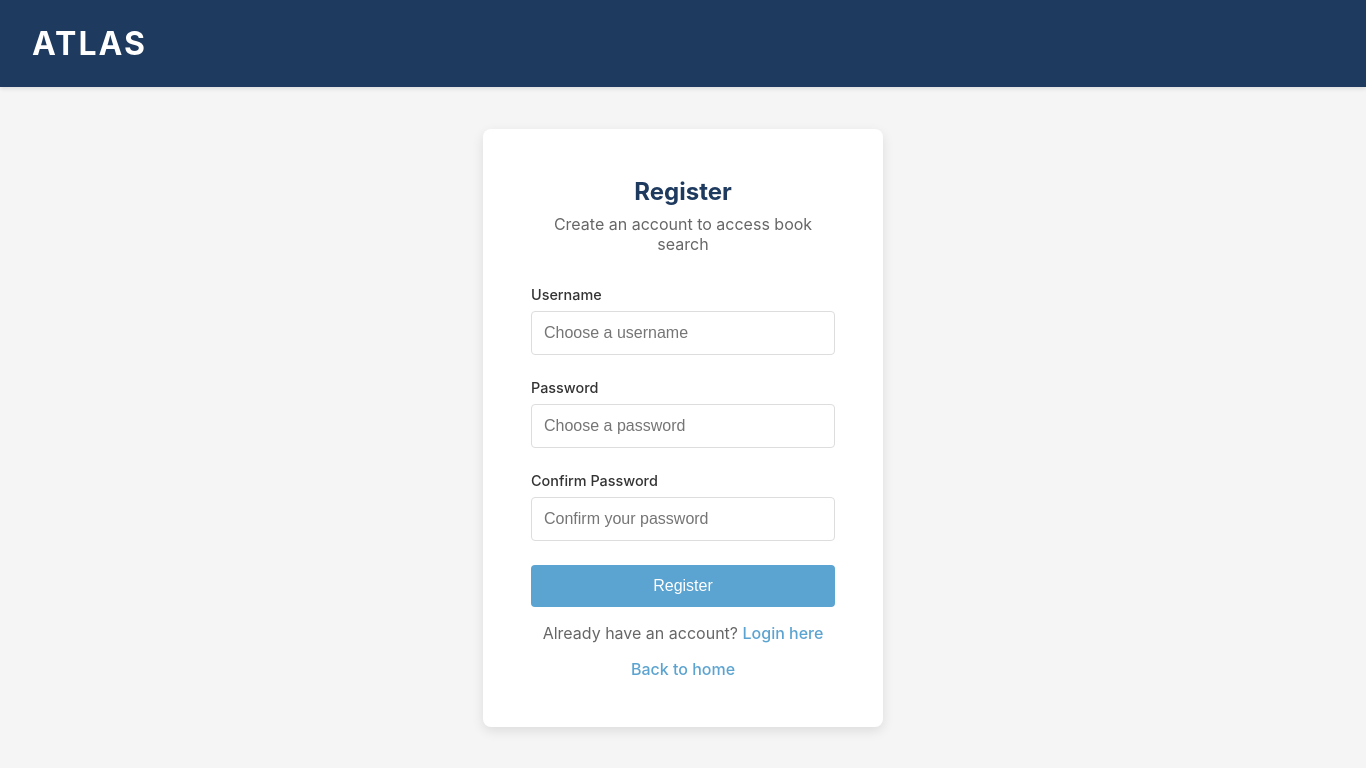
Test: RegisterPage › Form Validation › should show error for short username
Type "ab" into the field labelled "Username" at (683, 332), box [531, 310, 835, 354]
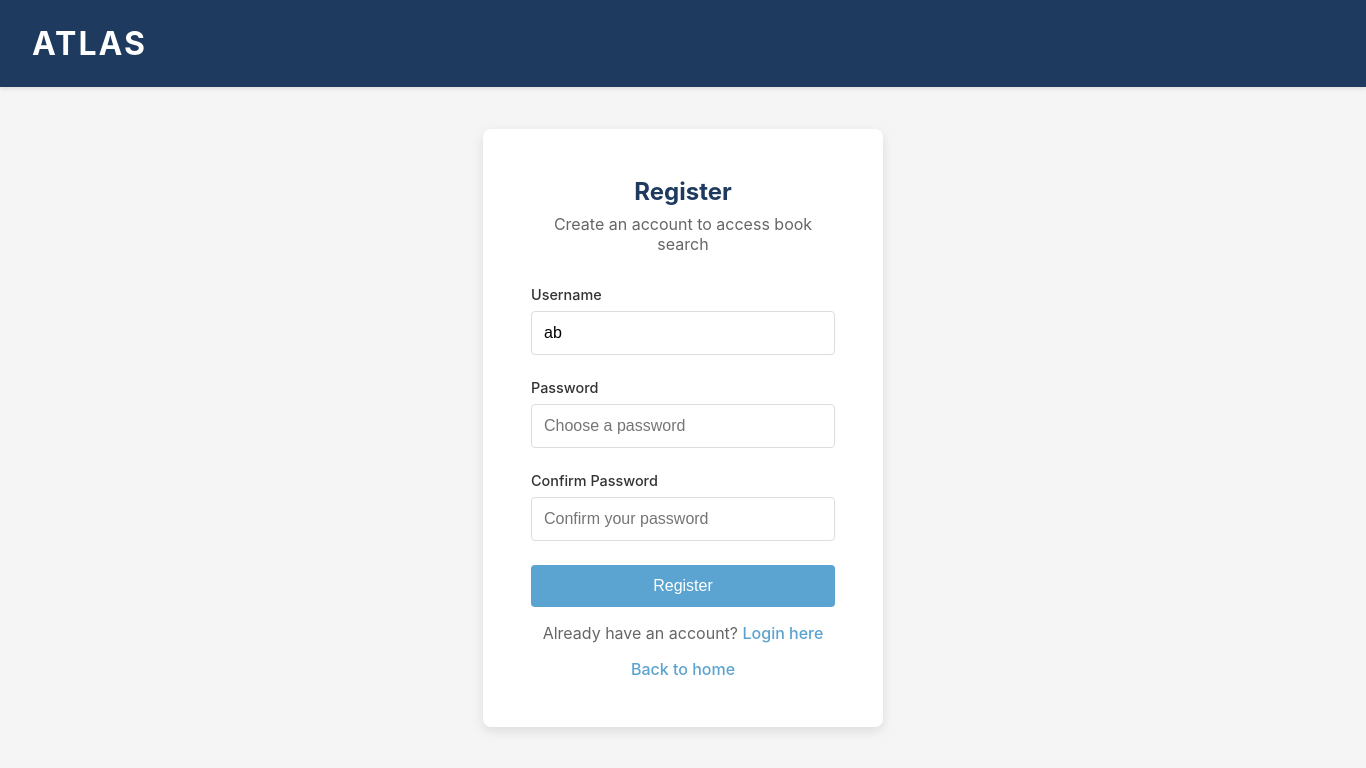
Type "password123" into the password field labelled "Password" at (683, 426), box [531, 404, 835, 448]
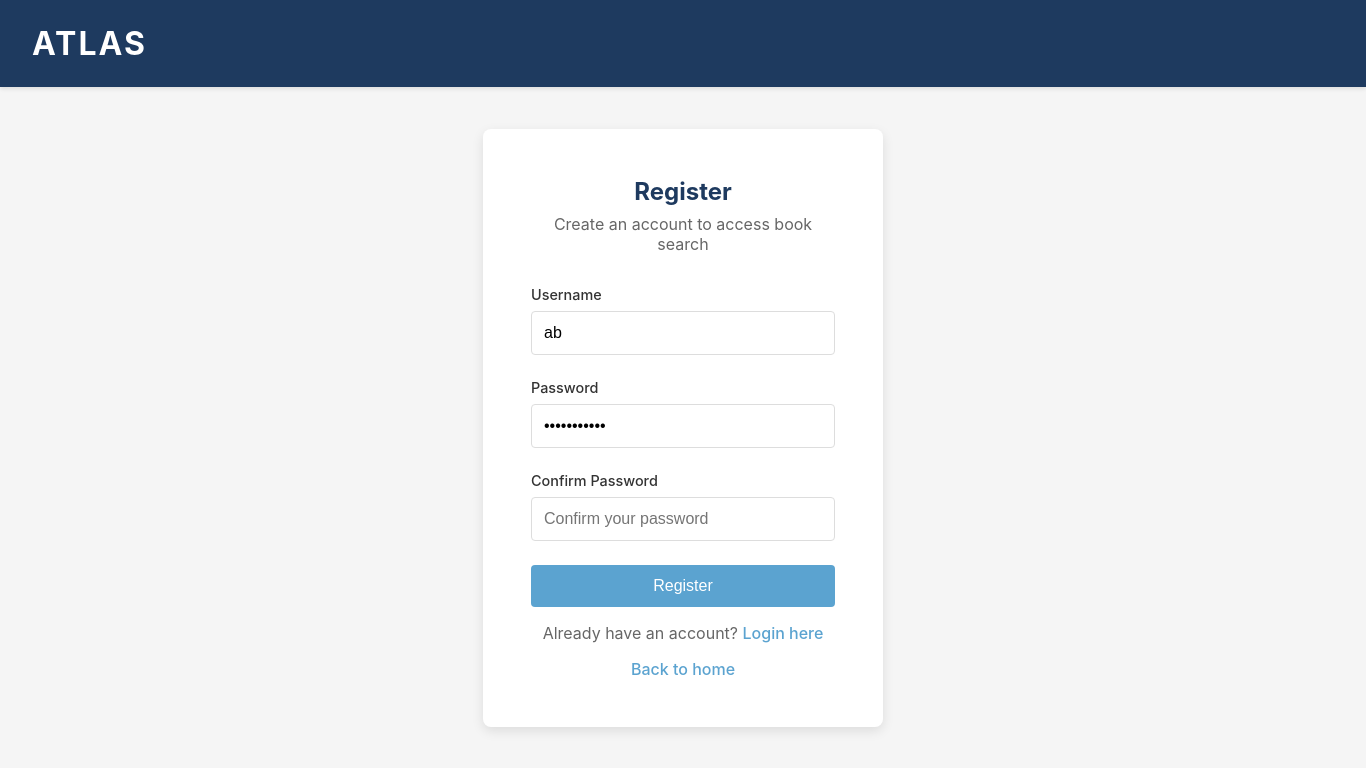
Type "password123" into the password field labelled "Confirm Password" at (683, 518), box [531, 496, 835, 540]
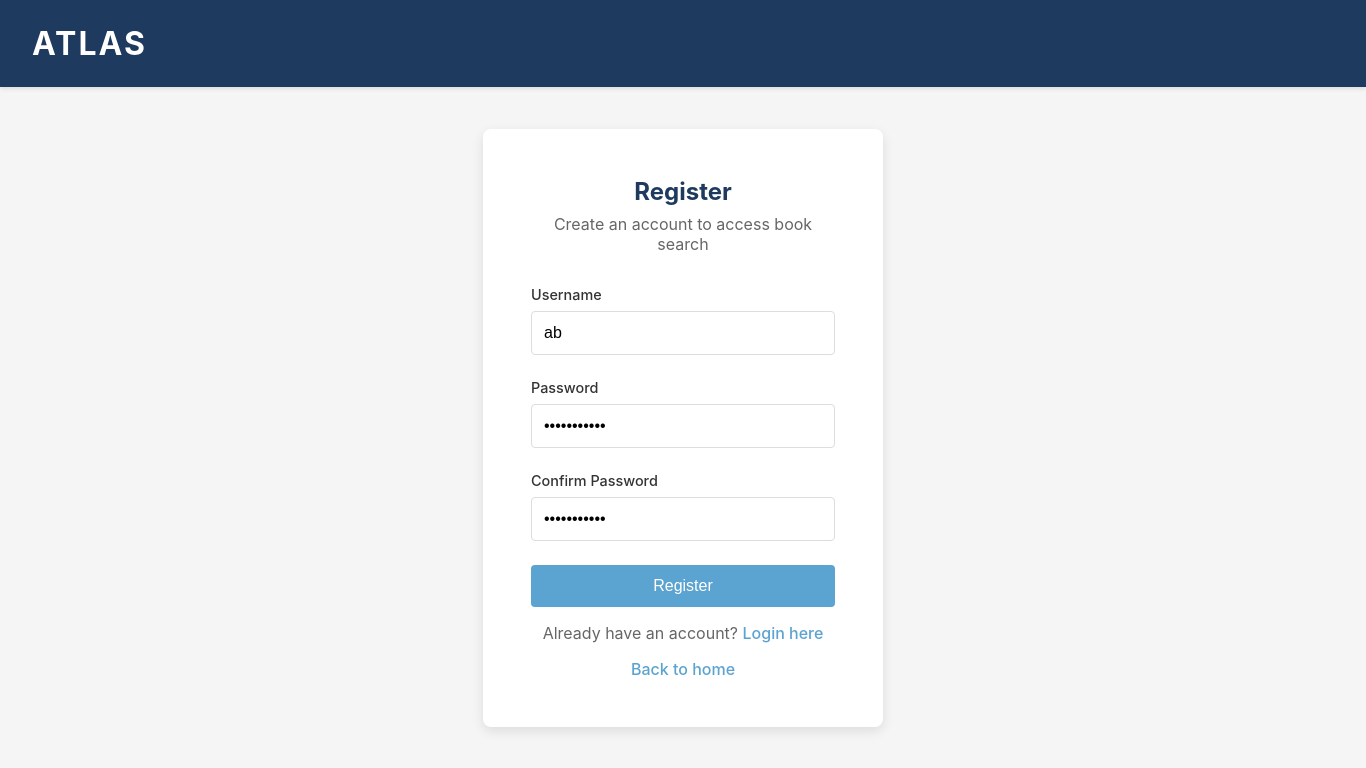
Click the button "Register" at (683, 586), box [531, 564, 835, 606]
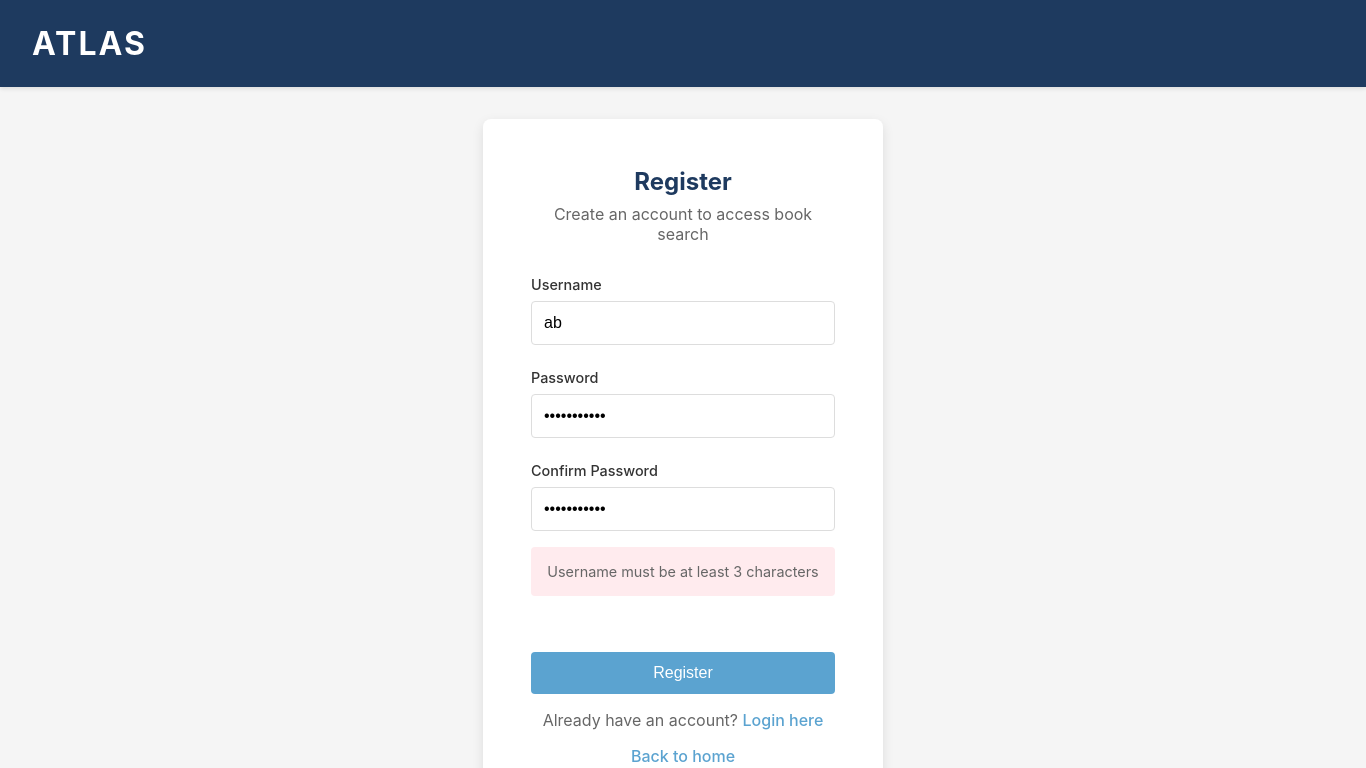
Expected: the text "Username must be at least 3 characters" is shown, [531, 547, 835, 596]
